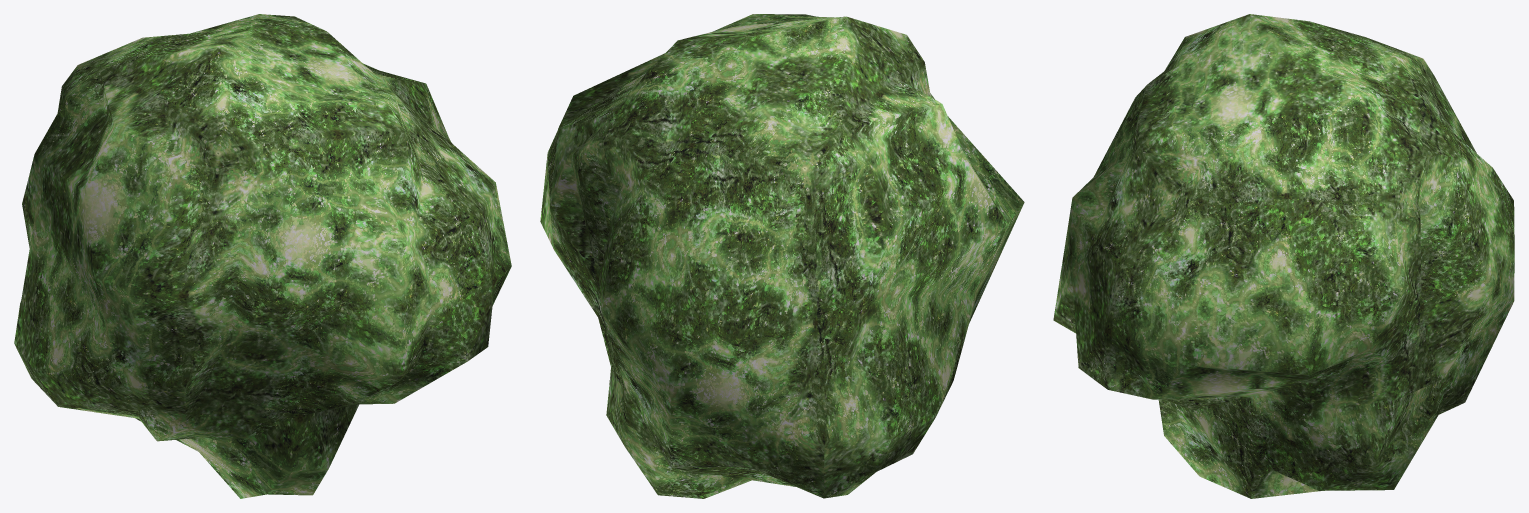
The model's file is asteroid_acid_medium_s01_l1.fbx.
3 renders of one model, left to right at view 1: azimuth 30°, elevation 25°; view 2: azimuth 150°, elevation 25°; view 3: azimuth 270°, elevation 25°, orthographic. The views are drawn at different scales.
Visible parts, largest first — view 1: mesh_node; view 2: mesh_node; view 3: mesh_node.
Boxes of the visible parts, x1,y1,x2,y2 form: mesh_node: (14, 14, 511, 498); mesh_node: (540, 14, 1024, 498); mesh_node: (1053, 14, 1514, 498).
Size of the model in its own units: 65.95 by 71.29 by 66.97.
1 material, 1 textured.
